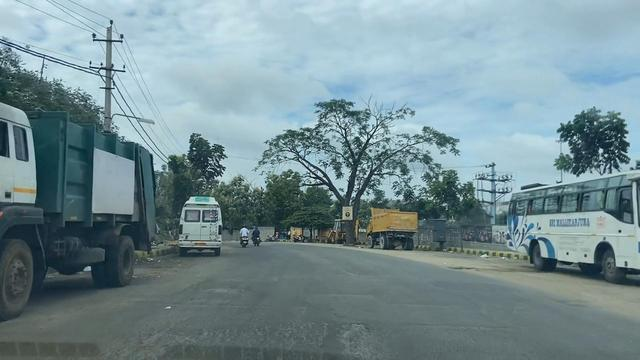HMV: (0, 99, 168, 329), (478, 168, 640, 273), (176, 192, 224, 261), (361, 204, 424, 249), (309, 211, 359, 247)
LMV: (237, 209, 262, 254), (247, 206, 269, 255)
RoadDamages: (304, 285, 388, 357)
